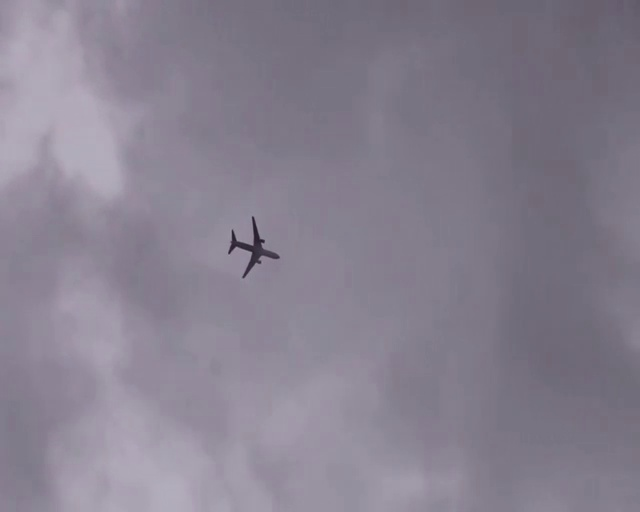AIRPLANE: (228, 216, 280, 278)
